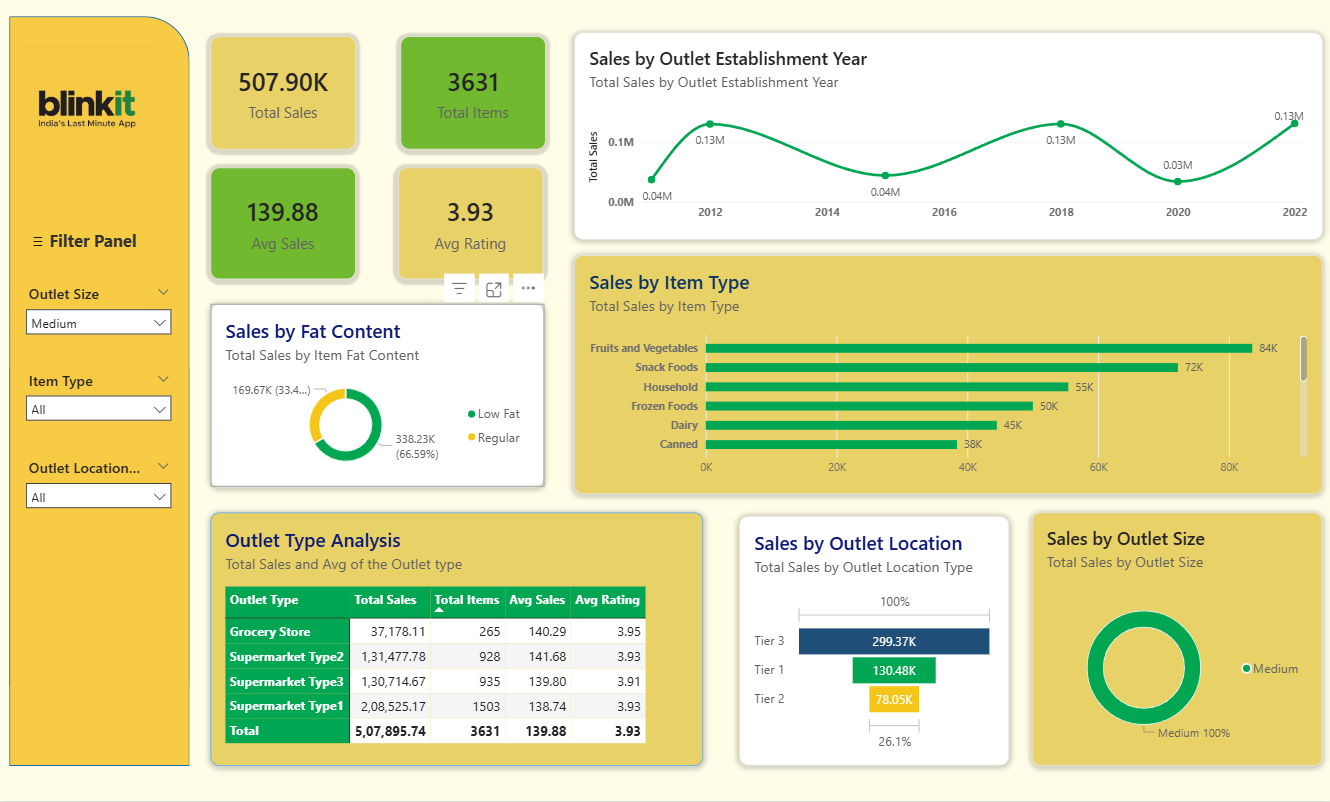

This screenshot's page, from the dashboard's own definition file:
{"tool":"powerbi","page":{"name":"Page 1","canvas":[1500,900],"ordinal":0},"visuals":[{"type":"card","fields":{"Values":["Key Measures.Total Sales"]},"box":[239,41.2,163.2,126.9],"z":0},{"type":"card","fields":{"Values":["Key Measures.Avg Sales"]},"box":[239,187.9,163.2,125.3],"z":1000},{"type":"card","fields":{"Values":["Key Measures.Avg Rating"]},"box":[450,187.9,163.2,125.3],"z":2000},{"type":"card","fields":{"Values":["Key Measures.Total Items"]},"box":[451.6,41.2,163.2,126.9],"z":3000},{"type":"donutChart","title":" Sales by Fat Content","fields":{"Category":["BlinkIT-Grocery-Data.Item Fat Content"],"Y":["Key Measures.Total Sales"]},"box":[239,341.2,374.2,206],"z":4000},{"type":"clusteredBarChart","title":"Sales by Item Type","fields":{"Category":["BlinkIT-Grocery-Data.Item Type"],"Y":["Key Measures.Total Sales"]},"box":[647.8,286.8,840.7,268.7],"z":5000},{"type":"donutChart","title":"Sales by Outlet Size","fields":{"Category":["BlinkIT-Grocery-Data.Outlet Size"],"Y":["Key Measures.Total Sales"]},"box":[1162.1,575.3,326.4,285.2],"z":6000},{"type":"lineChart","title":"Sales by Outlet Establishment Year","fields":{"Category":["BlinkIT-Grocery-Data.Outlet Establishment Year"],"Y":["Key Measures.Total Sales"]},"box":[647.8,36.3,840.7,232.4],"z":7000},{"type":"pivotTable","title":"Outlet Type Analysis","fields":{"Rows":["BlinkIT-Grocery-Data.Outlet Type"],"Values":["Key Measures.Total Sales","Key Measures.Total Items","Key Measures.Avg Sales","Key Measures.Avg Rating"]},"box":[239,575.3,553.8,285.2],"z":8000},{"type":"funnel","title":" Sales by Outlet Location","fields":{"Category":["BlinkIT-Grocery-Data.Outlet Location Type"],"Y":["Key Measures.Total Sales"]},"box":[832.4,580.2,303.3,280.2],"z":12000},{"type":"shape","box":[13.2,18.1,202.7,842.3],"z":12750},{"type":"slicer","fields":{"Values":["BlinkIT-Grocery-Data.Outlet Location Type"]},"box":[26.4,514.3,173.1,65.9],"z":12812},{"type":"slicer","fields":{"Values":["BlinkIT-Grocery-Data.Outlet Size"]},"box":[26.4,318.1,173.1,64.3],"z":12875},{"type":"slicer","fields":{"Values":["BlinkIT-Grocery-Data.Item Type"]},"box":[26.4,415.4,173.1,67.6],"z":13000},{"type":"textbox","box":[25.9,251.2,160.1,35.7],"z":15500},{"type":"image","box":[25.6,42,148.6,161.9],"z":16501}]}

Visuals, with their boxes in screenshot pixels (x1, y1, x2, y2), scaled from the page's 1500x900 canvas onto the 1330x802 screenshot:
card - Key Measures.Total Sales: pyautogui.locateOnScreen(212, 37, 357, 150)
card - Key Measures.Avg Sales: pyautogui.locateOnScreen(212, 167, 357, 279)
card - Key Measures.Avg Rating: pyautogui.locateOnScreen(399, 167, 544, 279)
card - Key Measures.Total Items: pyautogui.locateOnScreen(400, 37, 545, 150)
" Sales by Fat Content" donutChart: pyautogui.locateOnScreen(212, 304, 544, 488)
"Sales by Item Type" clusteredBarChart: pyautogui.locateOnScreen(574, 256, 1320, 495)
"Sales by Outlet Size" donutChart: pyautogui.locateOnScreen(1030, 513, 1320, 767)
"Sales by Outlet Establishment Year" lineChart: pyautogui.locateOnScreen(574, 32, 1320, 239)
"Outlet Type Analysis" pivotTable: pyautogui.locateOnScreen(212, 513, 703, 767)
" Sales by Outlet Location" funnel: pyautogui.locateOnScreen(738, 517, 1007, 767)
shape: pyautogui.locateOnScreen(12, 16, 191, 767)
slicer - BlinkIT-Grocery-Data.Outlet Location Type: pyautogui.locateOnScreen(23, 458, 177, 517)
slicer - BlinkIT-Grocery-Data.Outlet Size: pyautogui.locateOnScreen(23, 283, 177, 341)
slicer - BlinkIT-Grocery-Data.Item Type: pyautogui.locateOnScreen(23, 370, 177, 430)
textbox: pyautogui.locateOnScreen(23, 224, 165, 256)
image: pyautogui.locateOnScreen(23, 37, 154, 182)
